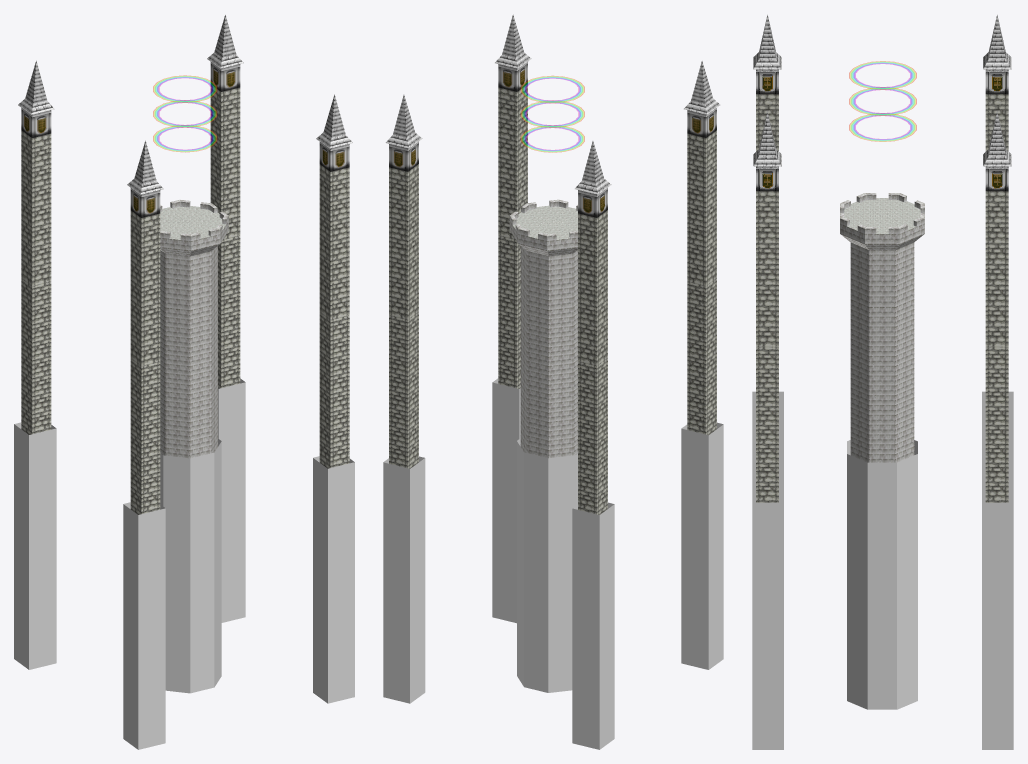
File: habatake_all.obj
The picture shows the model from 3 angles, left to right: view 1: azimuth 30°, elevation 25°; view 2: azimuth 150°, elevation 25°; view 3: azimuth 270°, elevation 25°; orthographic projection. The views are drawn at different scales.
Visible parts, largest first — view 1: r0; view 2: r0; view 3: r0.
Part boxes in pixels (box(x1,y1,x2,y2)): r0: box(14, 14, 354, 749); r0: box(383, 14, 723, 749); r0: box(752, 14, 1013, 749).
Size of the model in its own units: 9.16 by 24.3 by 9.1.
